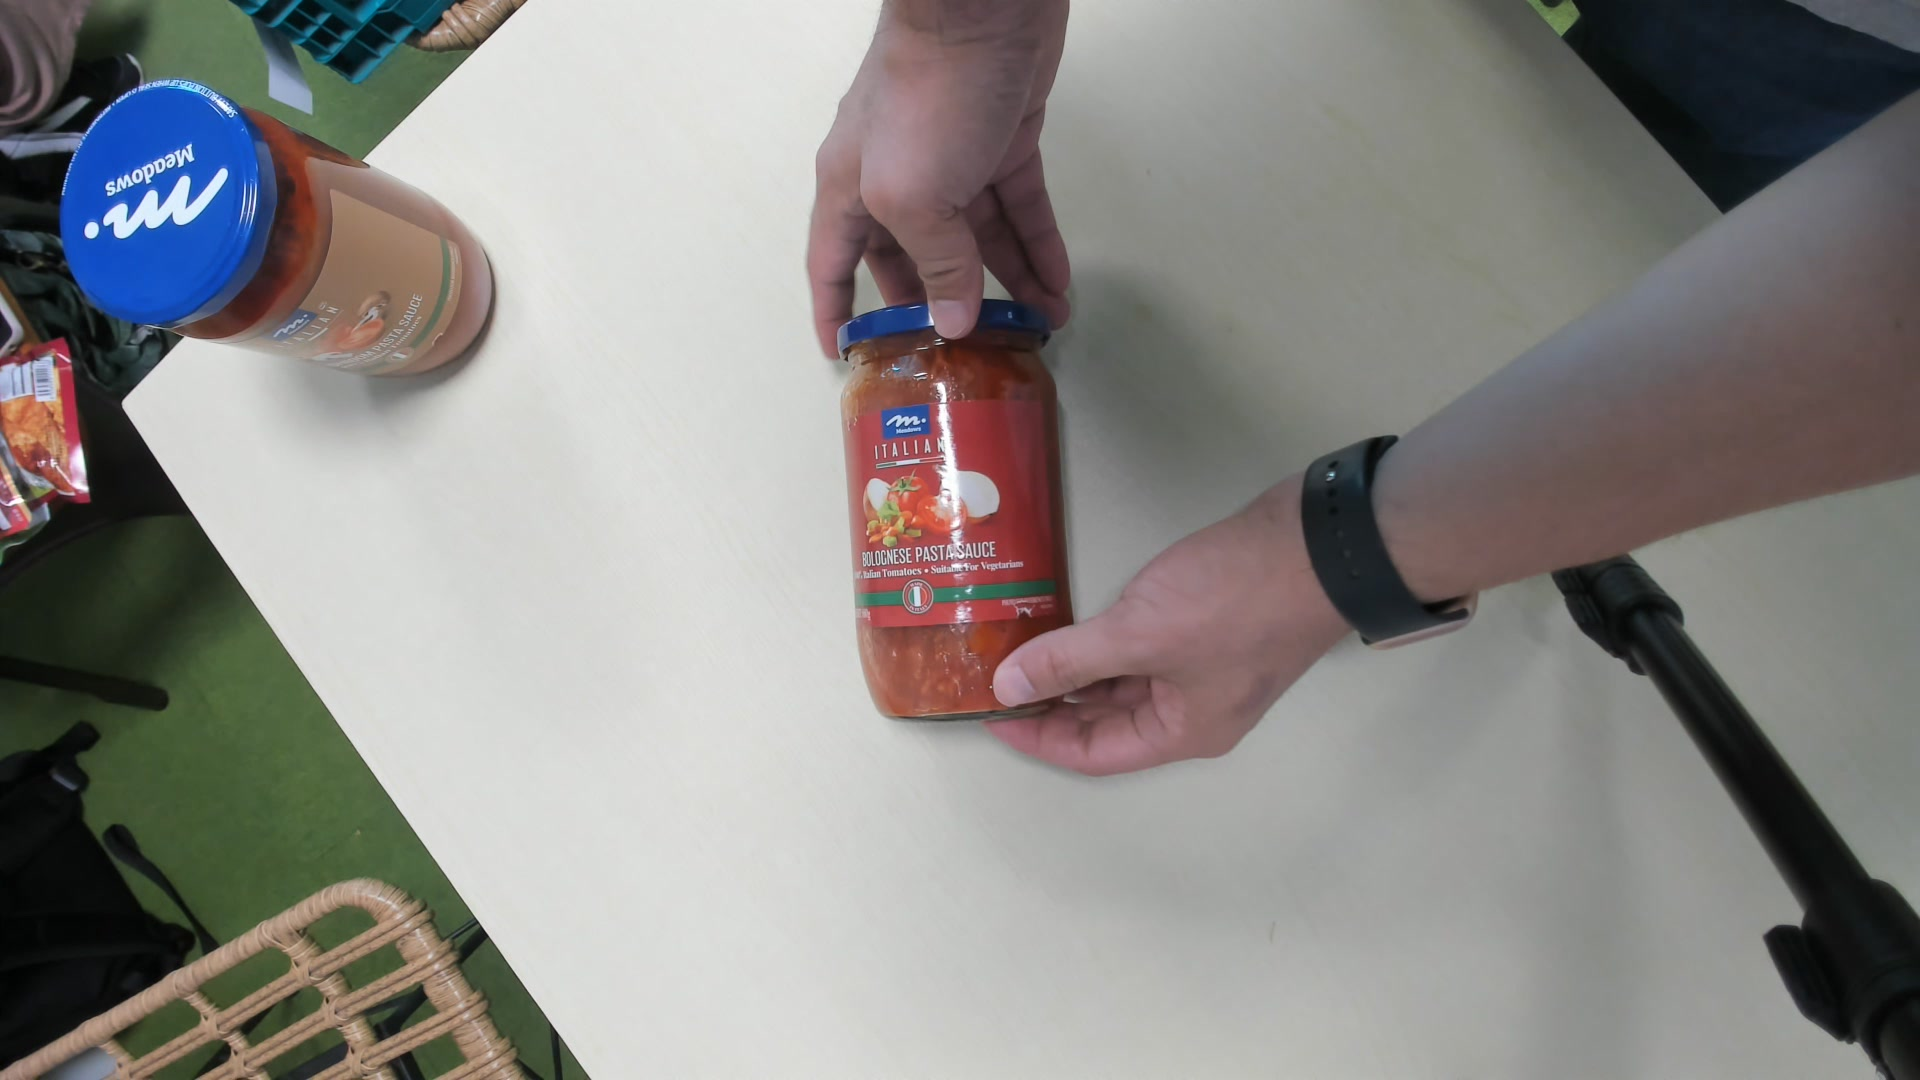PastaSauce_600-699g_Halal_NonHealthy: (833, 293, 1079, 720)
